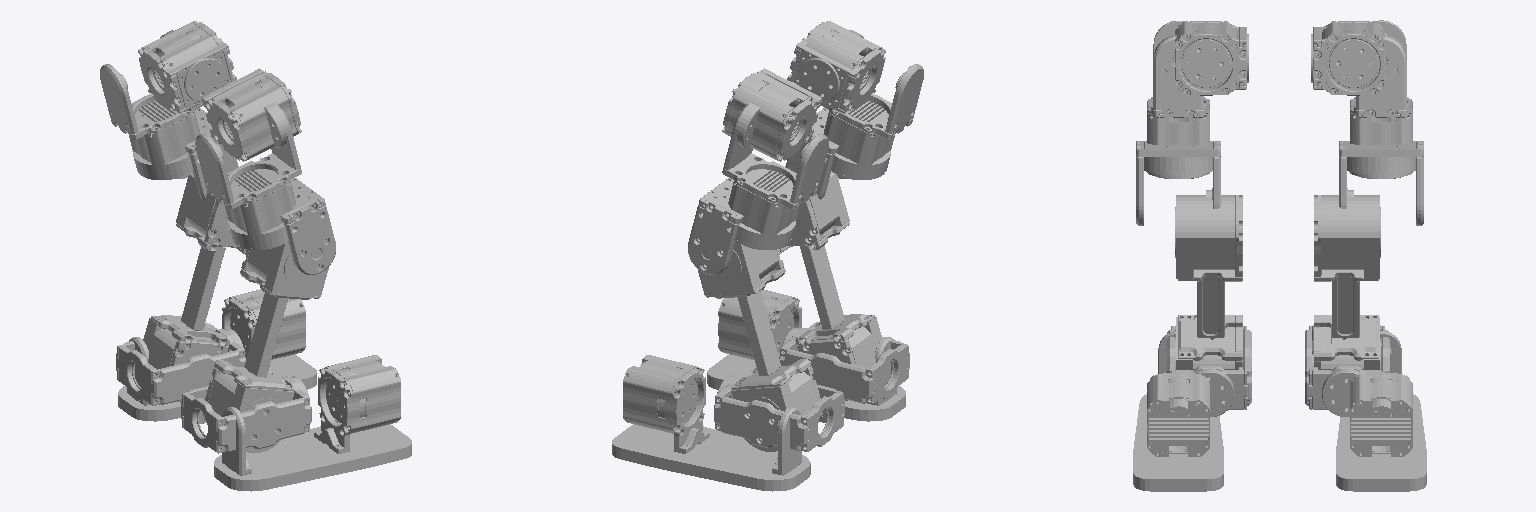
URDF robot description (pi_12dof_release_v1):
<?xml version="1.0" encoding="utf-8"?>
<robot name="pi_12dof_release_v1">
	<mujoco>
		<compiler meshdir="../meshes/" balanceinertia="true" discardvisual="false" />
	</mujoco>



	<link name="base_link">
		<inertial>
			<origin xyz="0.00242324 -5.699E-05 0.04030078" rpy="0 0 0" />
			<mass value="2.1609" />
			<inertia ixx="0.00900968" ixy="-2.533E-05" ixz="-0.00013112" iyy="0.00978166" iyz="2E-07" izz="0.00416554" />
		</inertial>
		<visual>
			<origin xyz="0 0 0" rpy="0 0 0" />
			<geometry>
				<!-- <box size="0.1 0.1 0.1" /> -->
				<mesh filename="../meshes/baselink_1.STL" />
			</geometry>
			<material name="">
				<color rgba="1 1 1 1" />
			</material>
		</visual>
		<collision>
			<origin xyz="0 0 0.08" rpy="0 0 0" />
			<geometry>
				<box size="0.1 0.1 0.1" />
				<!-- <mesh filename="../meshes/base_link.STL" /> -->
			</geometry>
		</collision>
	</link>
<!-- right leg -->
	<link name="r_hip_pitch_link">
		<inertial>
			<origin xyz="0.00089428 -0.05527744 -0.00027276" rpy="0 0 0" />
			<mass value="0.36999771" />
			<inertia ixx="8.307E-05" ixy="2E-07" ixz="-5E-08" iyy="9.81E-05" iyz="-7E-07" izz="0.0001085" />
		</inertial>
		<visual>
			<origin xyz="0 0 0" rpy="0 0 0" />
			<geometry>
				<mesh filename="../meshes/r_hip_pitch_link.STL" />
			</geometry>
			<material name="">
				<color rgba="0.75294 0.75294 0.75294 1" />
			</material>
		</visual>
		<collision>
			<origin xyz="0 0 0" rpy="0 0 0" />
			<geometry>
				<box size="0.001 0.001 0.001" />
				<!-- <mesh filename="../meshes/r_hip_pitch_link.STL" /> -->
			</geometry>
		</collision>
	</link>
	<joint name="r_hip_pitch_joint" type="revolute">
		<origin xyz="-5.1979E-05 -0.0233 -0.033" rpy="0 -0.25 0" />
		<parent link="base_link" />
		<child link="r_hip_pitch_link" />
		<axis xyz="0 1 0" />
		<limit lower="-1.25" upper="1.75" effort="15"  velocity="5" />
	</joint>
	<link name="r_hip_roll_link">
		<inertial>
			<origin xyz="-0.00180153 0.00025956 -0.0608194" rpy="0 0 0" />
			<mass value="0.38851552" />
			<inertia ixx="0.00027042" ixy="3.9E-07" ixz="3.312E-05" iyy="0.0003342" iyz="8.7E-07" izz="0.00013617" />
		</inertial>
		<visual>
			<origin xyz="0 0 0" rpy="0 0 0" />
			<geometry>
				<mesh filename="../meshes/r_hip_roll_link.STL" />
			</geometry>
			<material name="">
				<color rgba="0.75294 0.75294 0.75294 1" />
			</material>
		</visual>
		<collision>
			<origin xyz="0 0 0" rpy="0 0 0" />
			<geometry>
				<box size="0.001 0.001 0.001" />
				<!-- <mesh filename="../meshes/r_hip_roll_link.STL" /> -->
			</geometry>
		</collision>
	</link>
	<joint name="r_hip_roll_joint" type="revolute">
		<origin xyz="0.00025 -0.0568 0" rpy="0 0 0" />
		<parent link="r_hip_pitch_link" />
		<child link="r_hip_roll_link" />
		<axis xyz="1 0 0" />
		<limit lower="-0.5" upper="0.12" effort="15"  velocity="5" />
	</joint>
	<link name="r_thigh_link">
		<inertial>
			<origin xyz="0 0.00116854 -0.04755896" rpy="0 0 0" />
			<mass value="0.11270879" />
			<inertia ixx="0.00012496" ixy="0" ixz="0" iyy="5.82E-05" iyz="3.19E-06" izz="9.438E-05" />
		</inertial>
		<visual>
			<origin xyz="0 0 0" rpy="0 0 0" />
			<geometry>
				<mesh filename="../meshes/r_thigh_link.STL" />
			</geometry>
			<material name="">
				<color rgba="0.75294 0.75294 0.75294 1" />
			</material>
		</visual>
		<collision>
			<origin xyz="0 0 0" rpy="0 0 0" />
			<geometry>
				<box size="0.001 0.001 0.001" />
				<!-- <mesh filename="../meshes/r_thigh_link.STL" /> -->
			</geometry>
		</collision>
	</link>
	<joint name="r_thigh_joint" type="revolute">
		<origin xyz="-0.00025 0 -0.06925" rpy="0 0 0" />
		<parent link="r_hip_roll_link" />
		<child link="r_thigh_link" />
		<axis xyz="0 0 1" />
		<limit lower="-0.6" upper="0.3" effort="15"  velocity="5" />
	</joint>
	<link name="r_calf_link">
		<inertial>
			<origin xyz="-0.00026627 -0.00116537 -0.06971210" rpy="0 0 0" />
			<mass value="0.81374212" />
			<inertia ixx="0.00352123" ixy="0.00000020" ixz="-0.00000072" iyy="0.00349946" iyz="-0.00002072" izz="0.00017468" />
		</inertial>
		<visual>
			<origin xyz="0 0 0" rpy="0 0 0" />
			<geometry>
				<mesh filename="../meshes/r_calf_link.STL" />
			</geometry>
			<material name="">
				<color rgba="0.75294 0.75294 0.75294 1" />
			</material>
		</visual>
		<collision>
			<origin xyz="0 0 0" rpy="0 0 0" />
			<geometry>
				<box size="0.001 0.001 0.001" />
				<!-- <mesh filename="../meshes/r_calf_link.STL" /> -->
			</geometry>
		</collision>
	</link>
	<joint name="r_calf_joint" type="revolute">
		<origin xyz="0 -0.0027 -0.07025" rpy="0 0.55 0" />
		<parent link="r_thigh_link" />
		<child link="r_calf_link" />
		<axis xyz="0 1 0" />
		<limit lower="-0.65" upper="1.65" effort="15"  velocity="5" />
	</joint>
	<link name="r_ankle_pitch_link">
		<inertial>
			<origin xyz="0.00467932 0.00347699 0" rpy="0 0 0" />
			<mass value="0.1759244" />
			<inertia ixx="0.00011981" ixy="6.4E-07" ixz="0" iyy="0.00022179" iyz="0" izz="0.00030766" />
		</inertial>
		<visual>
			<origin xyz="0 0 0" rpy="0 0 0" />
			<geometry>
				<mesh filename="../meshes/r_ankle_pitch_link.STL" />
			</geometry>
			<material name="">
				<color rgba="0.75294 0.75294 0.75294 1" />
			</material>
		</visual>
		<collision>
			<origin xyz="0 0 0" rpy="0 0 0" />
			<geometry>
				<box size="0.078 0.08 0.05" />
				<!-- <mesh filename="../meshes/r_ankle_pitch_link.STL" /> -->
			</geometry>
		</collision>
	</link>
	<joint name="r_ankle_pitch_joint" type="revolute">
		<origin xyz="0 0 -0.14" rpy="0 -0.3 0" />
		<parent link="r_calf_link" />
		<child link="r_ankle_pitch_link" />
		<axis xyz="0 1 0" />
		<limit lower="-0.5" upper="1.3" effort="15"  velocity="5" />
	</joint>
	<link name="r_ankle_roll_link">
		<inertial>
			<origin xyz="-0.02383679 0.00019256 -0.0144649" rpy="0 0 0" />
			<mass value="0.51868476" />
			<inertia ixx="0.0003308" ixy="-2.49E-06" ixz="-0.00018245" iyy="0.00113168" iyz="-1.06E-06" izz="0.00098381" />
		</inertial>
		<visual>
			<origin xyz="0 0 0" rpy="0 0 0" />
			<geometry>
				<mesh filename="../meshes/r_ankle_roll_link.STL" />
			</geometry>
			<material name="">
				<color rgba="0.75294 0.75294 0.75294 1" />
			</material>
		</visual>
		<collision>
			<origin xyz="0 0 0" rpy="0 0 0" />
			<geometry>
				<mesh filename="../meshes/r_ankle_roll_link.STL" />
			</geometry>
		</collision>
	</link>
	<joint name="r_ankle_roll_joint" type="revolute">
		<origin xyz="0.07525 0.0027 0" rpy="0 0 0" />
		<parent link="r_ankle_pitch_link" />
		<child link="r_ankle_roll_link" />
		<axis xyz="1 0 0" />
		<limit lower="-0.15" upper="0.15" effort="15"  velocity="5" />
	</joint>
<!-- left leg -->
	<link name="l_hip_pitch_link">
		<inertial>
			<origin xyz="0.00086268 0.05441908 -0.00025859" rpy="0 0 0" />
			<mass value="0.38968624" />
			<inertia ixx="0.00010076" ixy="-4.2E-07" ixz="-4E-08" iyy="0.00010507" iyz="-3E-07" izz="0.00012834" />
		</inertial>
		<visual>
			<origin xyz="0 0 0" rpy="0 0 0" />
			<geometry>
				<mesh filename="../meshes/l_hip_pitch_link.STL" />
			</geometry>
			<material name="">
				<color rgba="0.75294 0.75294 0.75294 1" />
			</material>
		</visual>
		<collision>
			<origin xyz="0 0 0" rpy="0 0 0" />
			<geometry>
				<box size="0.001 0.001 0.001" />
				<!-- <mesh filename="../meshes/l_hip_pitch_link.STL" /> -->
			</geometry>
		</collision>
	</link>
	<joint name="l_hip_pitch_joint" type="revolute">
		<origin xyz="-5.1979E-05 0.0233 -0.033" rpy="0 -0.25 0" />
		<parent link="base_link" />
		<child link="l_hip_pitch_link" />
		<axis xyz="0 1 0" />
		<limit lower="-1.25" upper="1.75" effort="15"  velocity="5" />
	</joint>
	<link name="l_hip_roll_link">
		<inertial>
			<origin xyz="-0.00207707 0.00026598 -0.0608194" rpy="0 0 0" />
			<mass value="0.36999771" />
			<inertia ixx="0.00027068" ixy="-7.6E-07" ixz="3.136E-05" iyy="0.0003332" iyz="8.8E-07" izz="0.00013543" />
		</inertial>
		<visual>
			<origin xyz="0 0 0" rpy="0 0 0" />
			<geometry>
				<mesh filename="../meshes/l_hip_roll_link.STL" />
			</geometry>
			<material name="">
				<color rgba="0.75294 0.75294 0.75294 1" />
			</material>
		</visual>
		<collision>
			<origin xyz="0 0 0" rpy="0 0 0" />
			<geometry>
				<box size="0.001 0.001 0.001" />
				<!-- <mesh filename="../meshes/l_hip_roll_link.STL" /> -->
			</geometry>
		</collision>
	</link>
	<joint name="l_hip_roll_joint" type="revolute">
		<origin xyz="0 0.0568 0" rpy="0 0 0" />
		<parent link="l_hip_pitch_link" />
		<child link="l_hip_roll_link" />
		<axis xyz="1 0 0" />
		<limit lower="-0.12" upper="0.5" effort="15"  velocity="5" />
	</joint>
	<link name="l_thigh_link">
		<inertial>
			<origin xyz="0 -0.00115822 -0.04755896" rpy="0 0 0" />
			<mass value="0.11270879" />
			<inertia ixx="0.00012497" ixy="0" ixz="0" iyy="5.82E-05" iyz="-3.21E-06" izz="9.438E-05" />
		</inertial>
		<visual>
			<origin xyz="0 0 0" rpy="0 0 0" />
			<geometry>
				<mesh filename="../meshes/l_thigh_link.STL" />
			</geometry>
			<material name="">
				<color rgba="0.75294 0.75294 0.75294 1" />
			</material>
		</visual>
		<collision>
			<origin xyz="0 0 0" rpy="0 0 0" />
			<geometry>
				<box size="0.001 0.001 0.001" />
				<!-- <mesh filename="../meshes/l_thigh_link.STL" /> -->
			</geometry>
		</collision>
	</link>
	<joint name="l_thigh_joint" type="revolute">
		<origin xyz="0 0 -0.06925" rpy="0 0 0" />
		<parent link="l_hip_roll_link" />
		<child link="l_thigh_link" />
		<axis xyz="0 0 1" />
		<limit lower="-0.3" upper="0.6" effort="15"  velocity="5" />
	</joint>
	<link name="l_calf_link">
		<inertial>
			<origin xyz="0.00026627 0.00386537 -0.06971210" rpy="0 0 0" />
			<mass value="0.81374212" />
			<inertia ixx="0.00352123" ixy="0.00000020" ixz="0.00000072" iyy="0.00349946" iyz="0.00002072" izz="0.00017468" />
		</inertial>
		<visual>
			<origin xyz="0 0 0" rpy="0 0 0" />
			<geometry>
				<mesh filename="../meshes/l_calf_link.STL" />
			</geometry>
			<material name="">
				<color rgba="0.75294 0.75294 0.75294 1" />
			</material>
		</visual>
		<collision>
			<origin xyz="0 0 0" rpy="0 0 0" />
			<geometry>
				<box size="0.001 0.001 0.001" />
				<!-- <mesh filename="../meshes/l_calf_link.STL" /> -->
			</geometry>
		</collision>
	</link>
	<joint name="l_calf_joint" type="revolute">
		<origin xyz="0 0 -0.07025" rpy="0 0.55 0" />
		<parent link="l_thigh_link" />
		<child link="l_calf_link" />
		<axis xyz="0 1 0" />
		<limit lower="-0.65" upper="1.65" effort="15"  velocity="5" />
	</joint>
	<link name="l_ankle_pitch_link">
		<inertial>
			<origin xyz="0.00467932 -0.00077699 0" rpy="0 0 0" />
			<mass value="0.1759244" />
			<inertia ixx="0.00011981" ixy="-6.4E-07" ixz="0" iyy="0.00022179" iyz="0" izz="0.00030766" />
		</inertial>
		<visual>
			<origin xyz="0 0 0" rpy="0 0 0" />
			<geometry>
				<mesh filename="../meshes/l_ankle_pitch_link.STL" />
			</geometry>
			<material name="">
				<color rgba="0.75294 0.75294 0.75294 1" />
			</material>
		</visual>
		<collision>
			<origin xyz="0 0 0" rpy="0 0 0" />
			<geometry>
				<box size="0.078 0.08 0.05" />
				<!-- <mesh filename="../meshes/l_ankle_pitch_link.STL" /> -->
			</geometry>
		</collision>
	</link>
	<joint name="l_ankle_pitch_joint" type="revolute">
		<origin xyz="0 0 -0.14" rpy="0 -0.3 0" />
		<parent link="l_calf_link" />
		<child link="l_ankle_pitch_link" />
		<axis xyz="0 1 0" />
		<limit lower="-0.5" upper="1.3" effort="15"  velocity="5" />
	</joint>
	<link name="l_ankle_roll_link">
		<inertial>
			<origin xyz="-0.02383679 0.00019256 -0.0144649" rpy="0 0 0" />
			<mass value="0.51868476" />
			<inertia ixx="0.0003308" ixy="-2.49E-06" ixz="-0.00018245" iyy="0.00113168" iyz="-1.06E-06" izz="0.00098381" />
		</inertial>
		<visual>
			<origin xyz="0 0 0" rpy="0 0 0" />
			<geometry>
				<mesh filename="../meshes/l_ankle_roll_link.STL" />
			</geometry>
			<material name="">
				<color rgba="0.75294 0.75294 0.75294 1" />
			</material>
		</visual>
		<collision>
			<origin xyz="0 0 0" rpy="0 0 0" />
			<geometry>
				<mesh filename="../meshes/l_ankle_roll_link.STL" />
			</geometry>
		</collision>
	</link>
	<joint name="l_ankle_roll_joint" type="revolute">
		<origin xyz="0.07525 0 0" rpy="0 0 0" />
		<parent link="l_ankle_pitch_link" />
		<child link="l_ankle_roll_link" />
		<axis xyz="1 0 0" />
		<limit lower="-0.15" upper="0.15" effort="15"  velocity="5" />
	</joint>
</robot>

--- Render facts (derived) ---
3 views of the same robot in one strip: view 1: azimuth 30°, elevation 25°; view 2: azimuth 150°, elevation 25°; view 3: azimuth 270°, elevation 25° (orthographic).
Model pi_12dof_release_v1 with 13 links and 12 joints (12 revolute), rooted at base_link, posed every joint at zero.
Links seen in each view (by area): view 1: r_ankle_roll_link, r_hip_roll_link, r_calf_link, l_calf_link, l_hip_roll_link, l_hip_pitch_link, l_ankle_roll_link, r_hip_pitch_link, r_ankle_pitch_link, l_ankle_pitch_link, r_thigh_link, l_thigh_link; view 2: l_ankle_roll_link, l_hip_roll_link, l_calf_link, r_calf_link, r_hip_roll_link, r_hip_pitch_link, r_ankle_roll_link, l_hip_pitch_link, l_ankle_pitch_link, r_ankle_pitch_link, l_thigh_link, r_thigh_link; view 3: r_calf_link, l_calf_link, l_ankle_roll_link, r_ankle_roll_link, r_hip_roll_link, l_hip_roll_link, r_hip_pitch_link, l_hip_pitch_link, l_ankle_pitch_link, r_ankle_pitch_link, l_thigh_link, r_thigh_link.
Link boxes in pixels (x1,y1,x2,y2): r_ankle_roll_link: (214,355,411,491); r_hip_roll_link: (195,102,301,249); r_calf_link: (203,242,328,452); l_calf_link: (143,171,245,402); l_hip_roll_link: (100,30,202,179); l_hip_pitch_link: (138,21,236,113); l_ankle_roll_link: (118,289,316,421); r_hip_pitch_link: (202,68,301,161); r_ankle_pitch_link: (181,371,311,453); l_ankle_pitch_link: (116,323,245,405); r_thigh_link: (280,178,335,274); l_thigh_link: (177,108,238,199); l_ankle_roll_link: (612,355,810,491); l_hip_roll_link: (722,103,828,249); l_calf_link: (698,242,822,451); r_calf_link: (780,171,881,400); r_hip_roll_link: (821,30,923,179); r_hip_pitch_link: (787,21,885,113); r_ankle_roll_link: (707,290,905,421); l_hip_pitch_link: (722,68,821,161); l_ankle_pitch_link: (714,370,844,451); r_ankle_pitch_link: (779,322,909,404); l_thigh_link: (688,178,743,274); r_thigh_link: (785,108,847,199); r_calf_link: (1175,195,1242,369); l_calf_link: (1314,195,1380,369); l_ankle_roll_link: (1336,331,1426,491); r_ankle_roll_link: (1133,331,1223,491); r_hip_roll_link: (1144,21,1212,178); l_hip_roll_link: (1347,20,1415,178); r_hip_pitch_link: (1175,21,1248,95); l_hip_pitch_link: (1311,21,1384,95); l_ankle_pitch_link: (1305,325,1389,416); r_ankle_pitch_link: (1167,326,1251,416); l_thigh_link: (1339,141,1423,225); r_thigh_link: (1136,141,1220,225).
Size in the robot's own frame: 0.1885 by 0.2322 by 0.3508 metres.
12 mesh visuals loaded from 13 distinct referenced files (12 binary STL); not drawn: 1 (reference not matched to a file when rendering).
